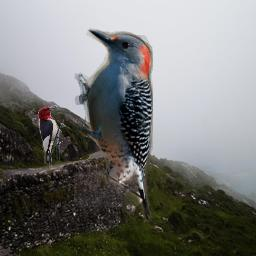Woodpecker: (74, 25, 153, 222), (38, 105, 64, 169)
